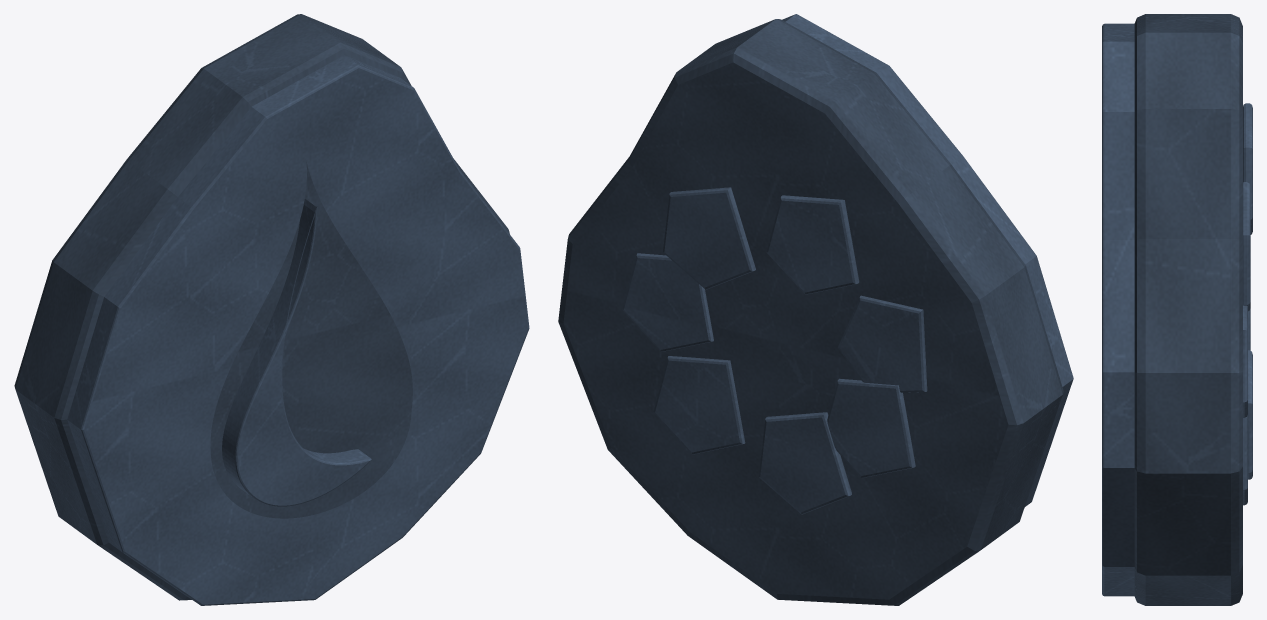
Rendered from water_essence.glb.
3 views of the same model, side by side, from view 1: azimuth 30°, elevation 25°; view 2: azimuth 150°, elevation 25°; view 3: azimuth 270°, elevation 25° (orthographic). The views are drawn at different scales.
Visible parts, largest first — view 1: water_essence fractured mineral, water_essence weathered fracture edges; view 2: water_essence weathered fracture edges, water_essence fractured mineral; view 3: water_essence weathered fracture edges, water_essence fractured mineral.
Boxes of the visible parts, <box> form: water_essence fractured mineral: <box>67,55,529,605</box>; water_essence weathered fracture edges: <box>14,14,509,600</box>; water_essence weathered fracture edges: <box>558,19,1063,605</box>; water_essence fractured mineral: <box>622,14,1073,514</box>; water_essence weathered fracture edges: <box>1134,14,1242,605</box>; water_essence fractured mineral: <box>1102,23,1252,596</box>.
Size of the model in its own units: 0.1722 by 0.1919 by 0.0441.
Materials: 3 (3 with a texture image).
